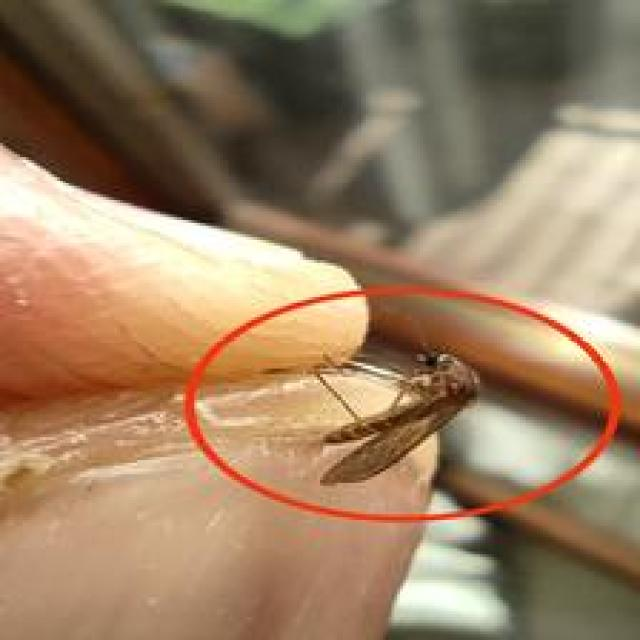Culex: (313, 342, 481, 487)
